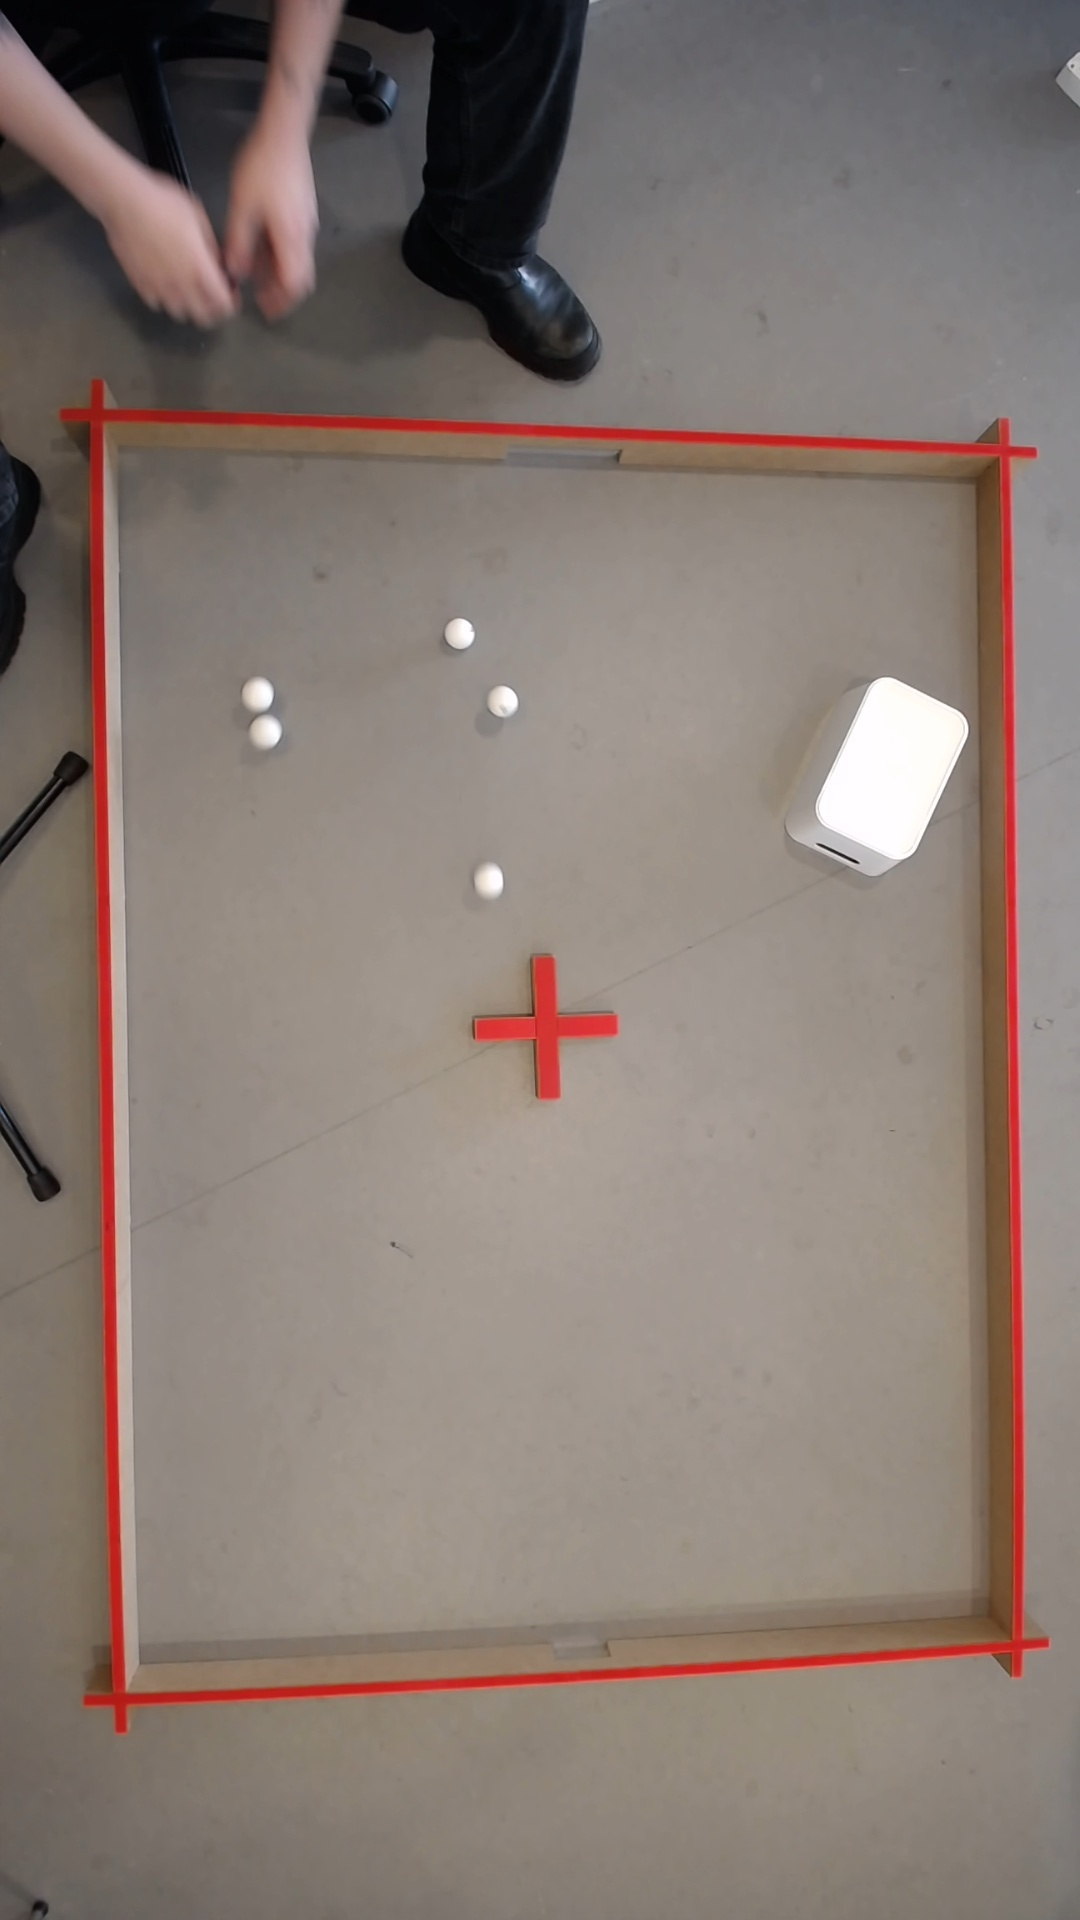balls: (806, 669, 977, 866), (272, 156, 318, 231), (444, 615, 479, 650), (244, 676, 277, 711), (479, 866, 502, 894), (493, 686, 517, 713)
car: (257, 719, 280, 744)
